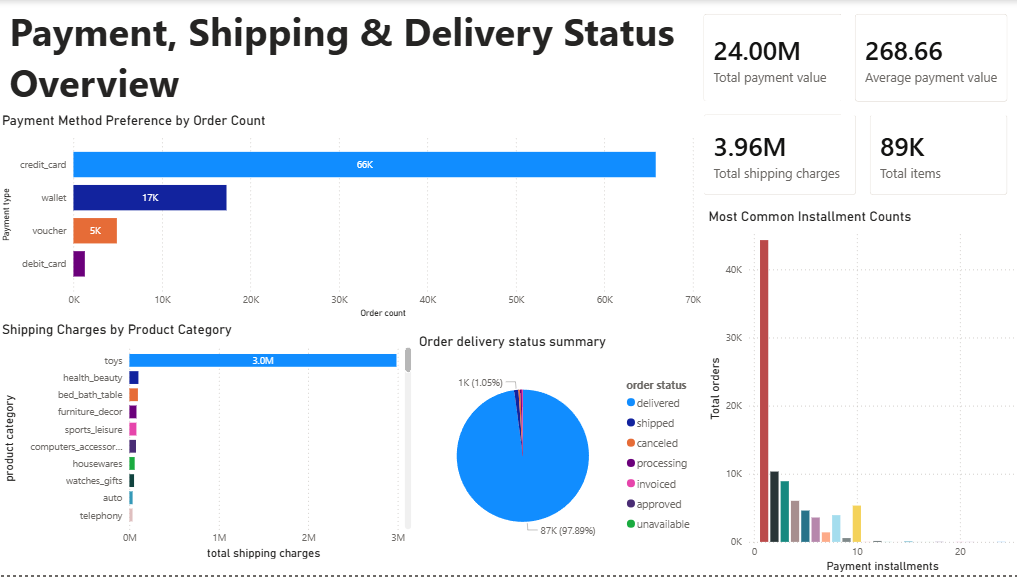

The dashboard page shown, as its layout file describes it:
{"tool":"powerbi","page":{"name":"Payment, Shipping & Delivery Status Overview","canvas":[1280,720],"ordinal":1},"visuals":[{"type":"textbox","box":[9.4,0,855.4,279.5],"z":0},{"type":"cardVisual","fields":{"Data":["Sum(payment_method_performance.total_payment_value)"]},"box":[864.8,0,208.2,144.4],"z":1000},{"type":"cardVisual","fields":{"Data":["Sum(shipping_charges_by_category.total_shipping_charges)"]},"box":[864.8,125.7,225.1,135.1],"z":2000},{"type":"cardVisual","fields":{"Data":["Sum(shipping_charges_by_category.item_count)"]},"box":[1073,125.7,206.4,135.1],"z":3000},{"type":"cardVisual","fields":{"Data":["payment_method_performance.average_calculated_payment_value"]},"box":[1054.3,0,225.1,144.4],"z":4000},{"type":"barChart","title":"Payment Method Preference by Order Count","fields":{"Category":["payment_method_performance.payment_type"],"Y":["Sum(payment_method_performance.payment_record_count)"],"Series":["payment_method_performance.payment_type"]},"box":[0,140.7,883.6,260.8],"z":5000},{"type":"barChart","title":"Shipping Charges by Product Category","fields":{"Category":["shipping_charges_by_category.product_category_name"],"Y":["Sum(shipping_charges_by_category.total_shipping_charges)"],"Series":["shipping_charges_by_category.product_category_name"]},"box":[0,401.4,521.5,302],"z":6000},{"type":"columnChart","title":"Most Common Installment Counts","fields":{"Category":["payment_installment_behavior.payment_installments Hierarchy.payment_installments"],"Y":["Sum(payment_installment_behavior.order_count)"],"Series":["payment_installment_behavior.payment_installments Hierarchy.payment_installments"]},"box":[883.6,260.8,395.8,459.6],"z":7000},{"type":"pieChart","title":"Order delivery status summary","fields":{"Category":["order_status_summary.order_status"],"Y":["Sum(order_status_summary.order_count)"]},"box":[521.5,416.5,362.1,287],"z":7001}]}

Visuals, with their boxes in screenshot pixels (x1, y1, x2, y2), scaled from the page's 1280x720 canvas onto the 1017x577 screenshot:
textbox: 7/0/687/224
cardVisual - Sum(payment_method_performance.total_payment_value): 687/0/853/116
cardVisual - Sum(shipping_charges_by_category.total_shipping_charges): 687/101/866/209
cardVisual - Sum(shipping_charges_by_category.item_count): 853/101/1016/209
cardVisual - payment_method_performance.average_calculated_payment_value: 838/0/1016/116
"Payment Method Preference by Order Count" barChart: 0/113/702/322
"Shipping Charges by Product Category" barChart: 0/322/414/564
"Most Common Installment Counts" columnChart: 702/209/1016/576
"Order delivery status summary" pieChart: 414/334/702/564
